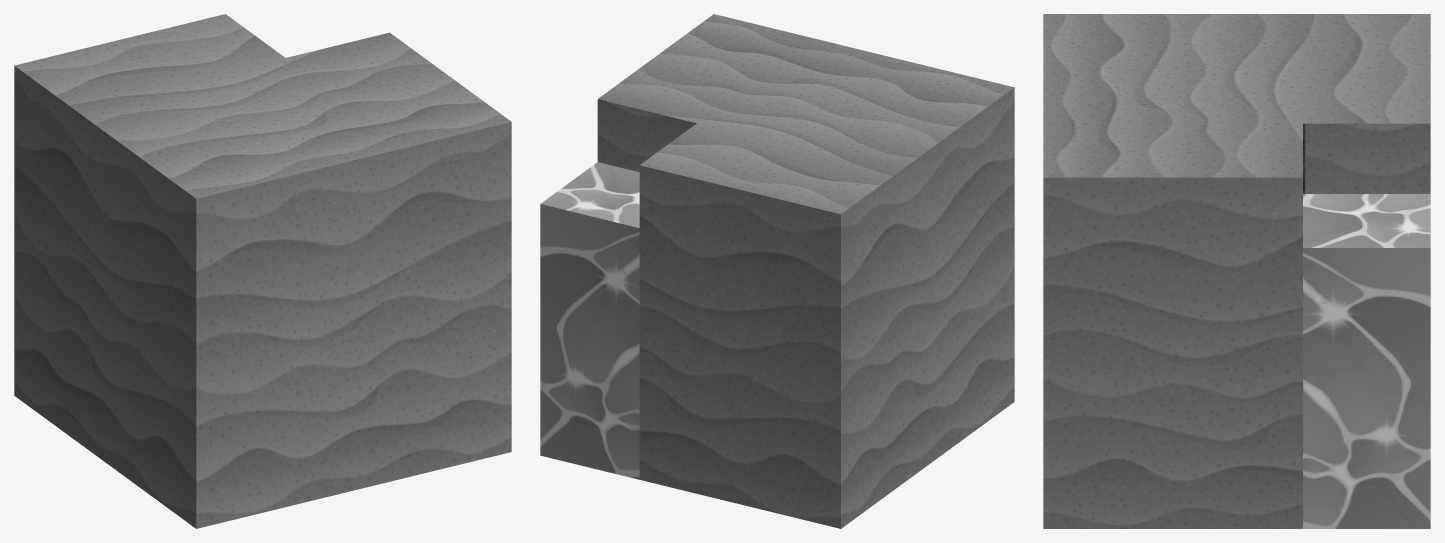
The model's file is SandWaterCorner.fbx.
The picture shows the model from 3 angles, left to right: view 1: azimuth 30°, elevation 25°; view 2: azimuth 150°, elevation 25°; view 3: azimuth 270°, elevation 25°; orthographic projection. The views are drawn at different scales.
Parts seen in each view (by area): view 1: Cube.031; view 2: Cube.031; view 3: Cube.031.
Part boxes in pixels (x1=…): Cube.031: x1=14, y1=14, x2=511, y2=528; Cube.031: x1=540, y1=14, x2=1014, y2=528; Cube.031: x1=1043, y1=14, x2=1430, y2=528.
Size of the model in its own units: 100 by 100 by 100.
